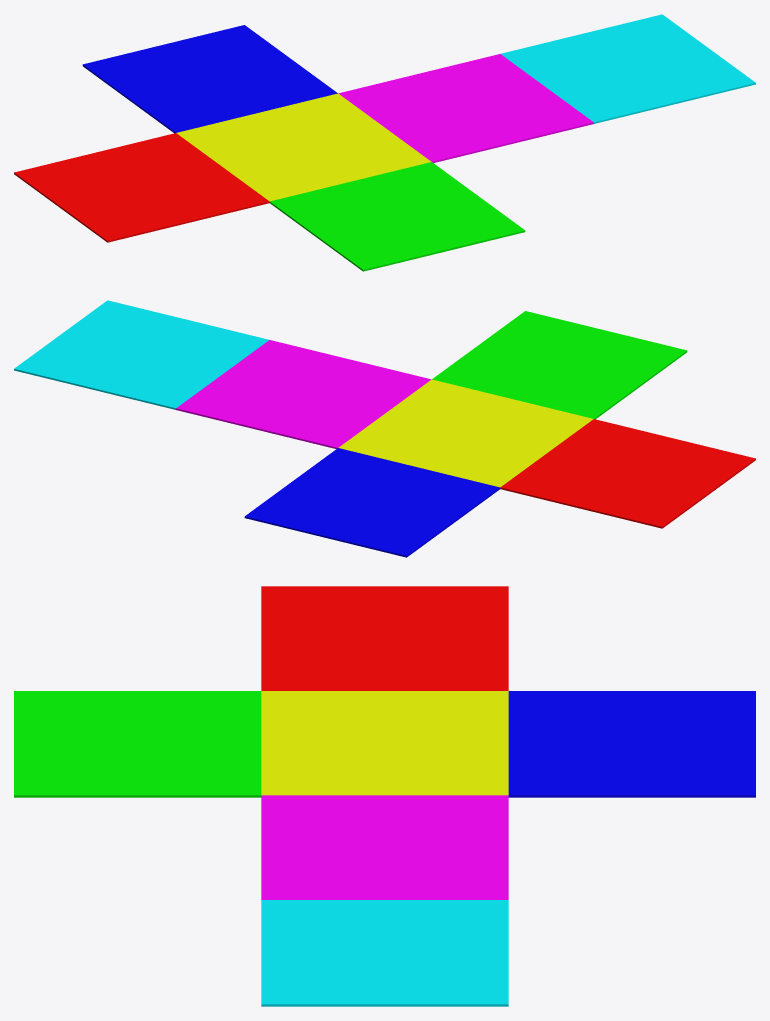
File: cubo_net.glb
3 views of the same model, one above another, from view 1: azimuth 30°, elevation 25°; view 2: azimuth 150°, elevation 25°; view 3: azimuth 270°, elevation 25° (orthographic). The views are drawn at different scales.
Parts seen in each view (by area): view 1: rojo, verde, Box006, rosa, azul, cian; view 2: rojo, azul, Box006, rosa, verde, cian; view 3: Box006, azul, verde, cian, rosa, rojo.
Boxes of the visible parts, box(x1,y1,x2,y2) form: rojo: box(14, 133, 269, 242); verde: box(269, 162, 525, 271); Box006: box(500, 14, 755, 123); rosa: box(338, 54, 593, 162); azul: box(82, 25, 337, 133); cian: box(176, 93, 431, 201); rojo: box(500, 419, 755, 528); azul: box(244, 448, 500, 557); Box006: box(14, 300, 269, 409); rosa: box(176, 340, 431, 448); verde: box(432, 311, 687, 419); cian: box(338, 379, 593, 487); Box006: box(261, 900, 508, 1006); azul: box(508, 691, 755, 797); verde: box(14, 691, 261, 797); cian: box(261, 691, 508, 795); rosa: box(261, 795, 508, 899); rojo: box(261, 586, 508, 690).
Bounding box in the file's own units: 3.05 × 0.00762 × 2.29.
